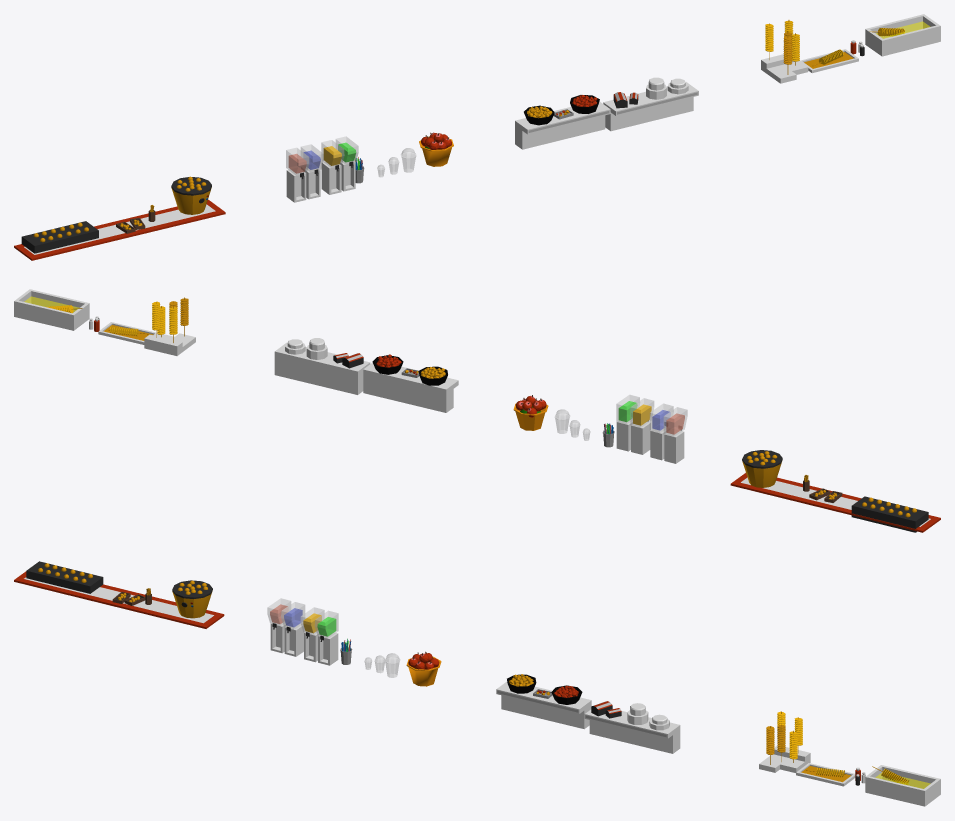
File: FoodZoneFood_Artstation (1).fbx
3 views of the same model, one above another, from view 1: azimuth 30°, elevation 25°; view 2: azimuth 150°, elevation 25°; view 3: azimuth 330°, elevation 25° (orthographic).
Visible parts, largest first — view 1: Cube.018, Circle.001, Cube.051, Cube.044; view 2: Cube.018, Cube.051, Circle.001, Cube.044; view 3: Cube.018, Cube.051, Circle.001, Cube.044.
Boxes of the visible parts, x1,y1,x2,y2 form: Cube.018: (515, 77, 698, 149); Circle.001: (14, 176, 225, 260); Cube.051: (286, 132, 453, 202); Cube.044: (761, 14, 940, 83); Cube.018: (274, 338, 458, 412); Cube.051: (513, 395, 687, 463); Circle.001: (730, 450, 940, 532); Cube.044: (14, 289, 195, 355); Cube.018: (496, 674, 680, 753); Cube.051: (267, 598, 441, 686); Circle.001: (14, 561, 224, 628); Cube.044: (759, 711, 940, 806).
Bounding box in the file's own units: 1447 × 81.03 × 74.74.
